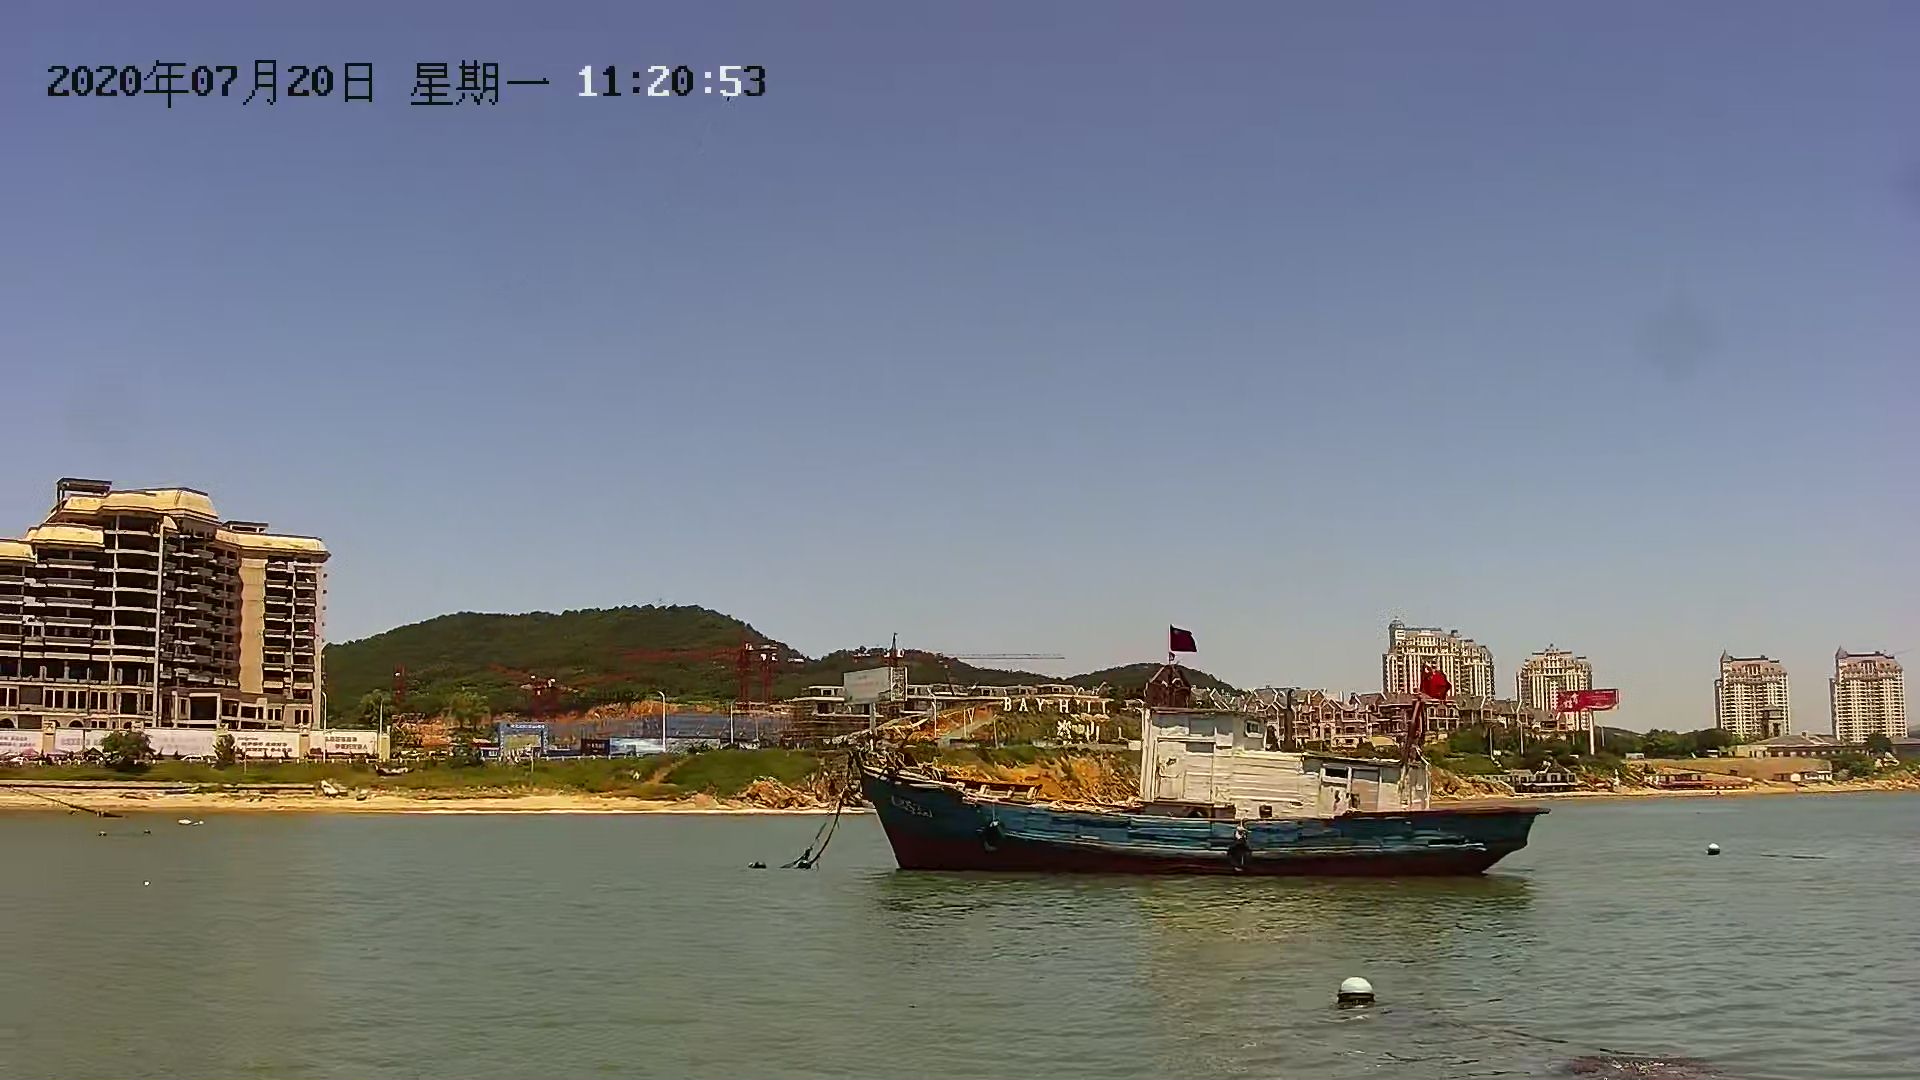ball: (1335, 975, 1375, 1005), (1708, 840, 1726, 860)
boat: (822, 688, 1561, 891)
